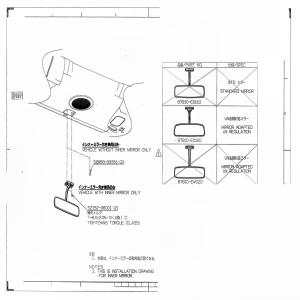PartNumber: (177, 179, 203, 184), (177, 138, 202, 143), (88, 205, 112, 210), (178, 99, 202, 104), (93, 160, 118, 164)
